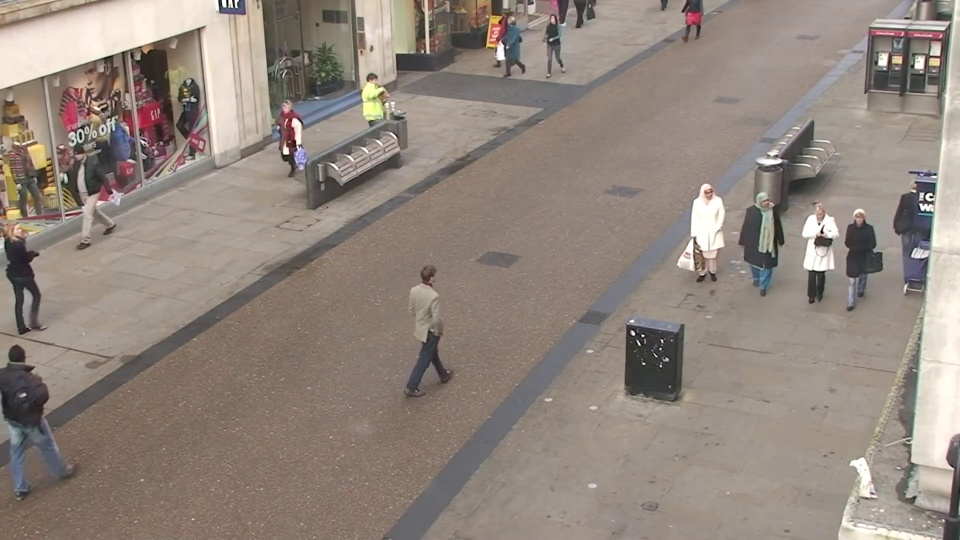pedestrian: (5, 330, 76, 482), (3, 214, 62, 334), (419, 256, 464, 389), (829, 204, 877, 324), (793, 202, 838, 322), (54, 143, 102, 243), (738, 188, 779, 303), (686, 179, 724, 292), (268, 99, 302, 188), (358, 69, 388, 150), (496, 14, 520, 81), (538, 12, 561, 79), (490, 7, 513, 72)
